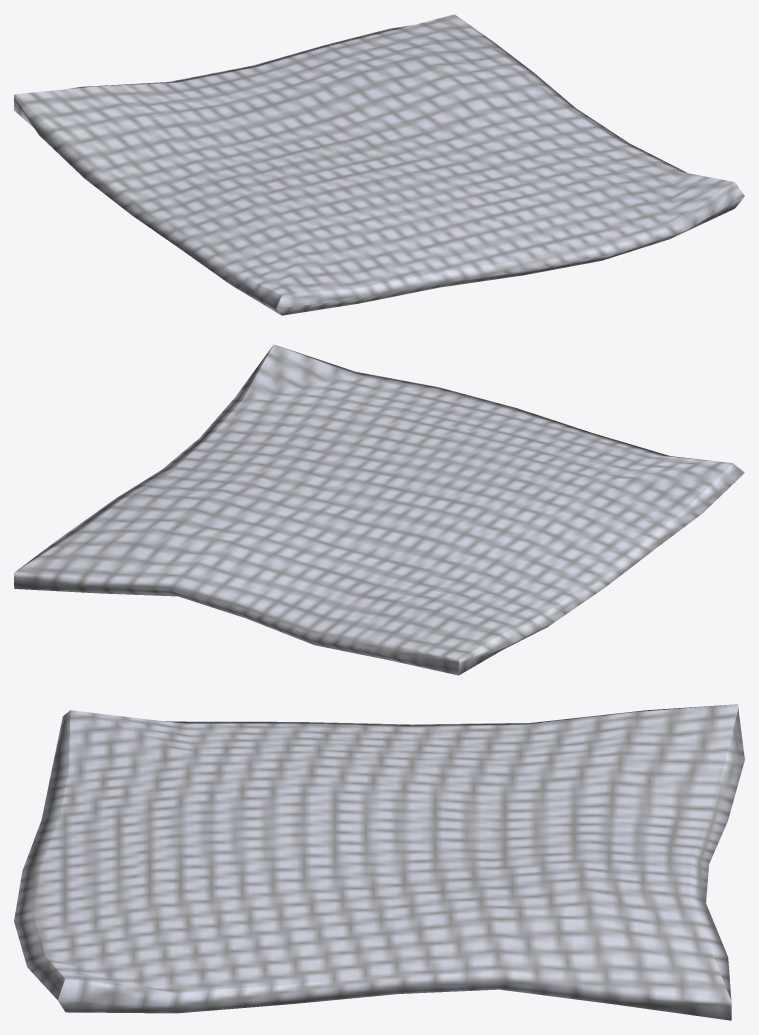
Rendered from Gauze_Model.fbx.
3 renders of one model, top to bottom at view 1: azimuth 30°, elevation 25°; view 2: azimuth 150°, elevation 25°; view 3: azimuth 270°, elevation 25°, orthographic. The views are drawn at different scales.
Parts seen in each view (by area): view 1: gauze; view 2: gauze; view 3: gauze.
Part boxes in pixels (<box>): gauze: <box>14,14,744,315</box>; gauze: <box>14,344,744,675</box>; gauze: <box>14,704,744,1020</box>.
Size of the model in its own units: 2.33 by 0.1906 by 2.51.
